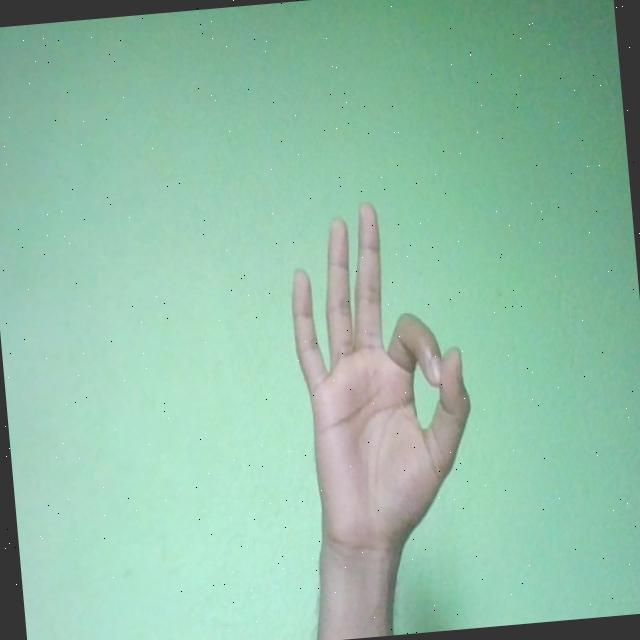Rock On: (284, 191, 482, 564)
